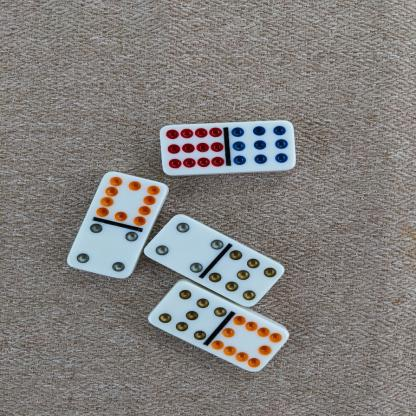pip-10: (210, 315, 288, 372), (94, 170, 166, 226)
pip-12: (158, 124, 228, 174)
pip-4: (143, 214, 224, 272), (67, 223, 138, 278)
pip-7: (148, 280, 226, 340), (208, 249, 283, 306)
pip-9: (229, 119, 295, 173)
